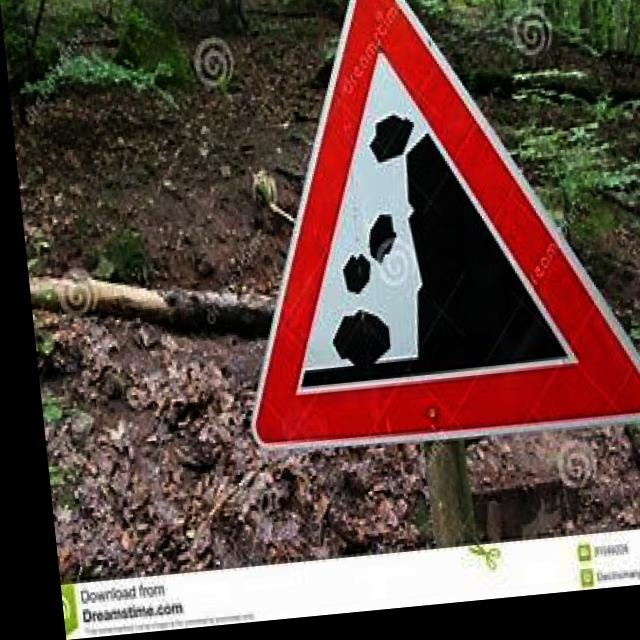FALLING_ROCKS: (212, 0, 640, 461)
